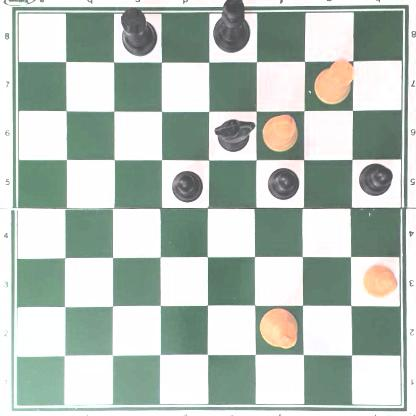black-king: (214, 1, 253, 54)
black-knight: (213, 118, 256, 153)
black-pawn: (358, 160, 393, 196), (267, 165, 299, 201), (170, 170, 204, 203)
black-rook: (118, 7, 158, 57)
white-bishop: (261, 113, 299, 153)
white-king: (259, 307, 299, 349)
white-pawn: (360, 263, 397, 299)
white-rook: (313, 58, 356, 104)
